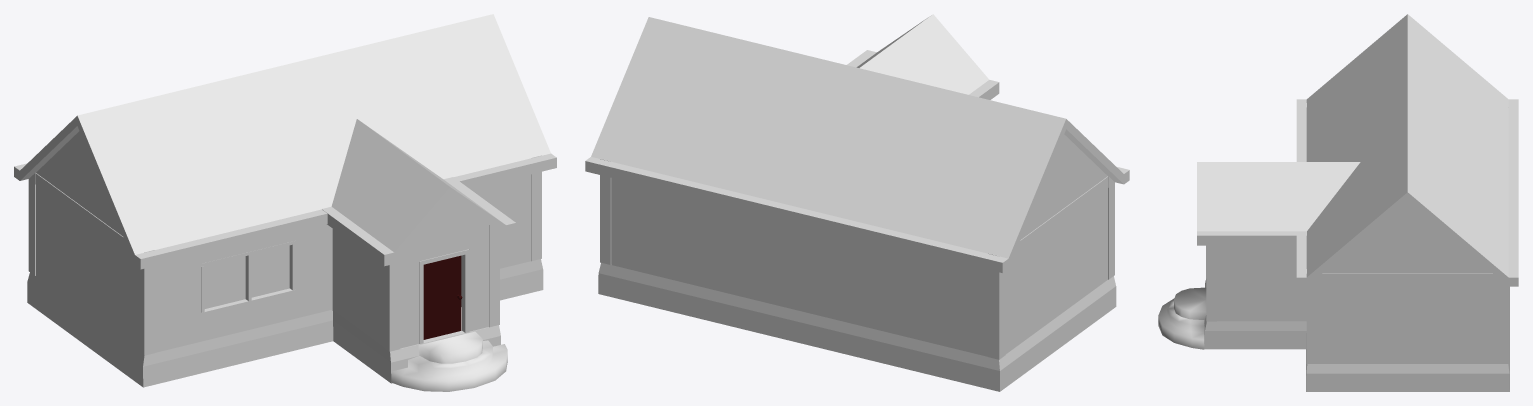
Rendered from housemodel.fbx.
3 renders of one model, left to right at view 1: azimuth 30°, elevation 25°; view 2: azimuth 150°, elevation 25°; view 3: azimuth 270°, elevation 25°, orthographic. The views are drawn at different scales.
Parts seen in each view (by area): view 1: Cube.016, Plane, Cube.002, Cube.017, Cube, Cube.005, Circle, Cube.004, Plane.002, Cube.021, Cube.007, Cube.010 (+7 smaller); view 2: Cube.016, Plane, Cube.009, Cube.001, Cube.002, Cube.017, Cube.014, Cube.026, Cube.013, Cube.015; view 3: Cube.016, Cube.008, Cube.017, Plane, Cube.006, Circle, Cube.025, Cube.012, Cube.013, Cube.011.
Part boxes in pixels (x1,y1,x2,y2): Cube.016: (14, 14, 556, 269); Plane: (27, 259, 543, 387); Cube.002: (36, 131, 137, 350); Cube.017: (322, 119, 515, 266); Cube: (155, 224, 332, 352); Cube.005: (400, 198, 488, 348); Circle: (391, 331, 507, 391); Cube.004: (332, 229, 383, 345); Plane.002: (204, 245, 289, 308); Cube.021: (423, 255, 462, 339); Cube.007: (470, 174, 530, 268); Cube.010: (383, 257, 400, 351); Cube.016: (585, 17, 1129, 273); Plane: (598, 262, 1116, 391); Cube.009: (611, 178, 799, 310); Cube.001: (800, 224, 988, 356); Cube.002: (1005, 134, 1107, 354); Cube.017: (847, 14, 999, 99); Cube.014: (988, 253, 1005, 359); Cube.026: (1013, 176, 1108, 256); Cube.013: (600, 158, 611, 264); Cube.015: (1108, 176, 1114, 279); Cube.016: (1296, 14, 1518, 286); Cube.008: (1317, 201, 1497, 363); Cube.017: (1197, 162, 1360, 245); Plane: (1204, 279, 1509, 391); Cube.006: (1217, 245, 1306, 321); Circle: (1158, 287, 1206, 349); Cube.025: (1317, 273, 1497, 283); Cube.012: (1306, 269, 1317, 363); Cube.013: (1498, 269, 1508, 363); Cube.011: (1206, 245, 1216, 321).
Size of what is drawn, in the model's own units: 4200 by 2234 by 3592.
